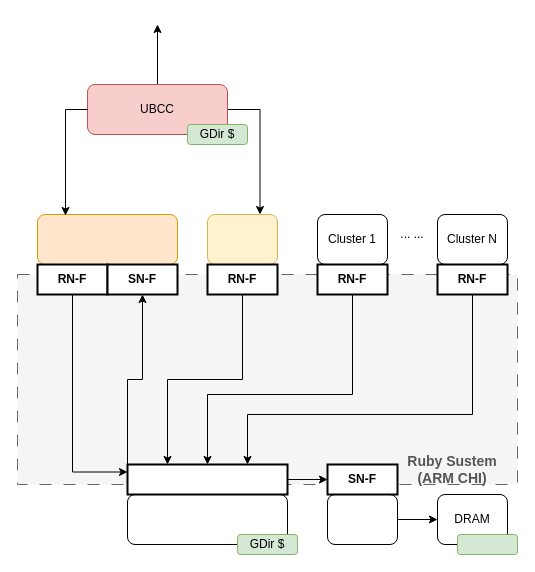
This 535x572 diagram has some shape labels left out. Each missing label, with the box of its shape:
EP: (36, 214, 178, 264)
GDir: (456, 534, 518, 554)
HA/L3: (126, 494, 288, 544)
HN-F: (126, 463, 288, 495)
MC: (326, 494, 398, 544)
UR: (206, 214, 278, 264)
